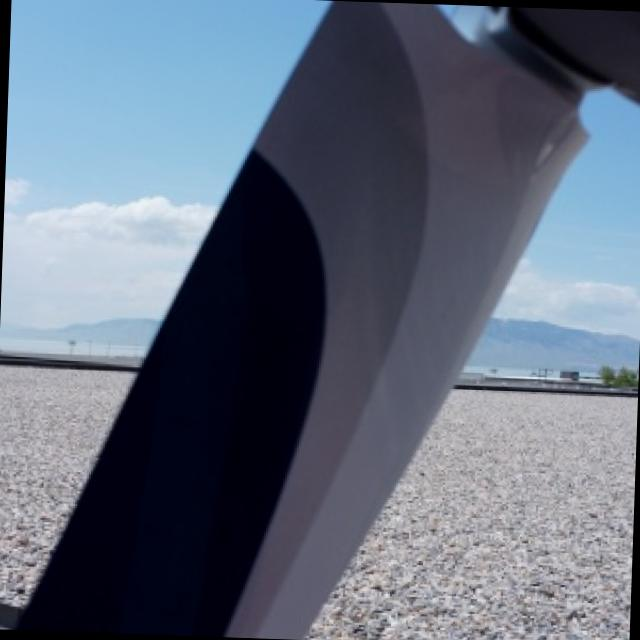healthy: (19, 0, 640, 637)
